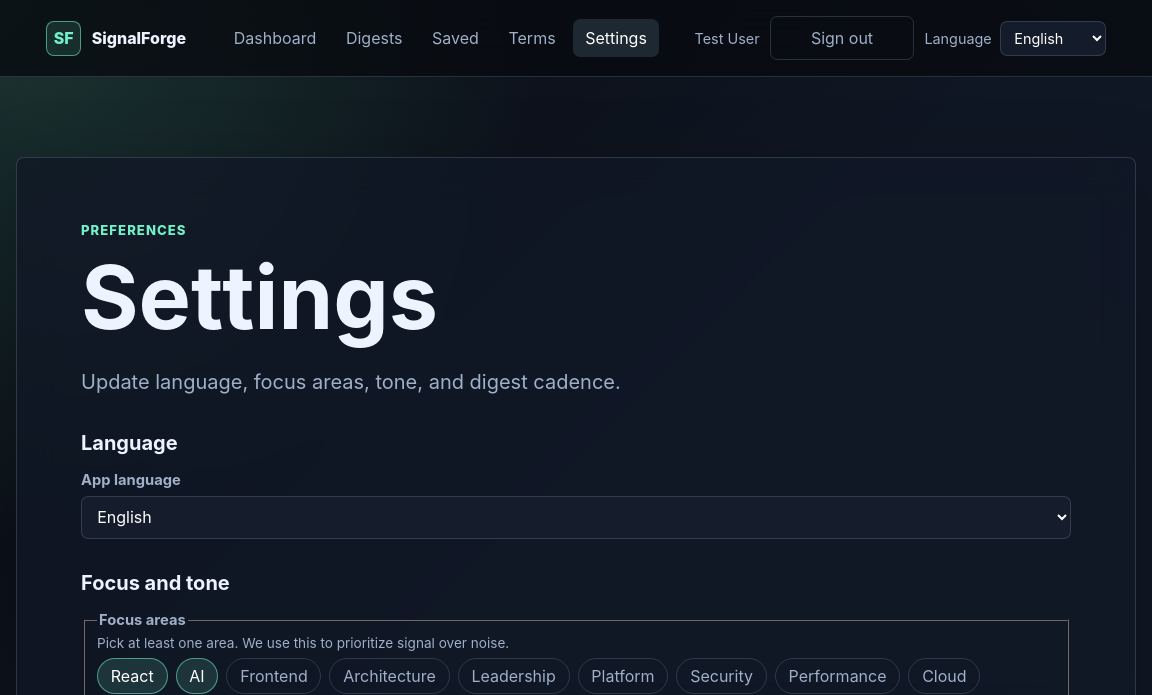
Test: App › switches locale without leaving the current route
Select "Ukrainian" in the dropdown labelled "App language" at (576, 517), box [81,496,1071,539]
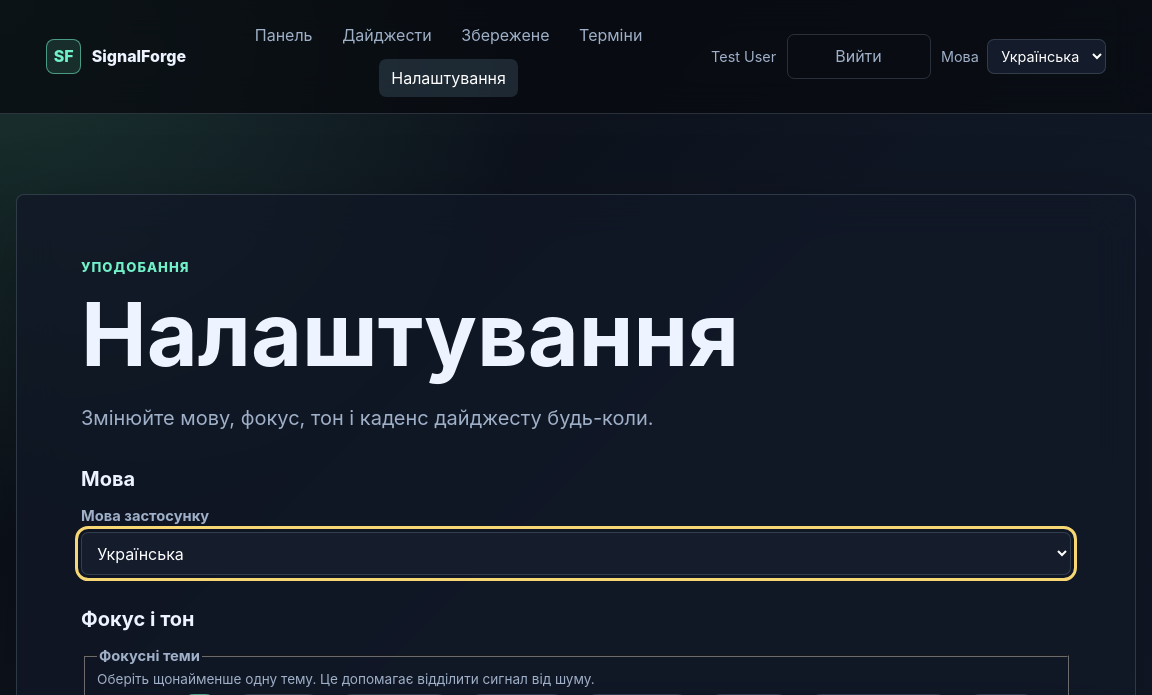
Expected: the heading "Налаштування" is shown, [81,291,793,377]
